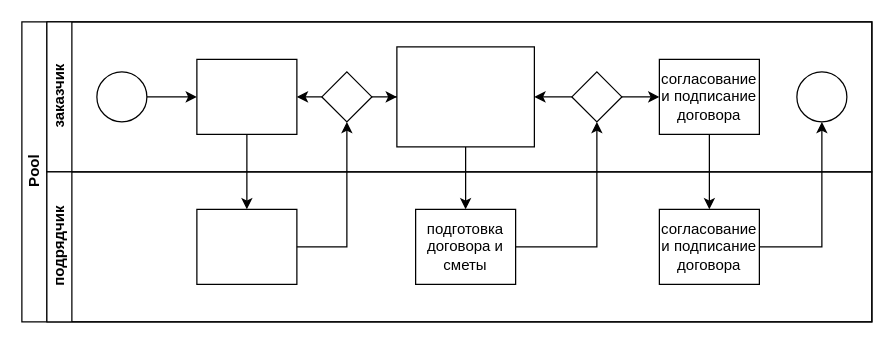
Image size: 894x344. Some labels were removed from this diagram. Each missing label, with the centre of its shape:
"подготовка КП" goes at (x=246, y=246).
"уточнение объемов, запрос сметы и проекта договора" goes at (x=465, y=96).
"формулир заявки и отправка запроса КП" goes at (x=246, y=96).
